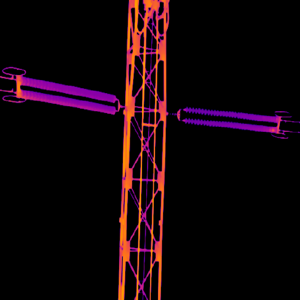insulator: (16, 73, 117, 115), (181, 104, 279, 134)
